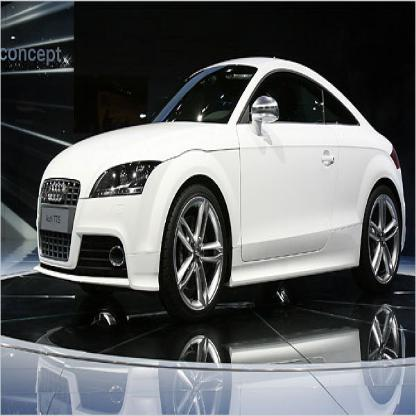Vehicle: (36, 59, 406, 328)
